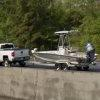Boat: (30, 28, 100, 73)
